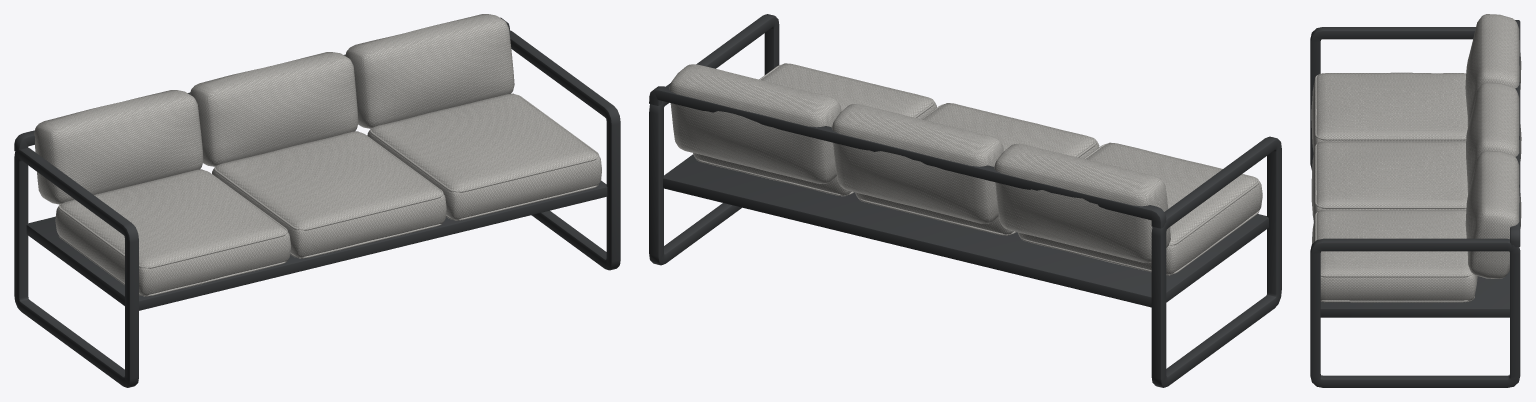
The model's file is sofa_aluminio_antracita.glb.
The picture shows the model from 3 angles, left to right: view 1: azimuth 30°, elevation 25°; view 2: azimuth 150°, elevation 25°; view 3: azimuth 270°, elevation 25°; orthographic projection. The views are drawn at different scales.
Parts seen in each view (by area): view 1: sofa_aluminio_antracita; view 2: sofa_aluminio_antracita; view 3: sofa_aluminio_antracita.
Boxes of the visible parts, x1,y1,x2,y2 form: sofa_aluminio_antracita: (14,14,620,387); sofa_aluminio_antracita: (649,14,1281,387); sofa_aluminio_antracita: (1310,14,1521,387).
Size of the model in its own units: 2 by 0.7367 by 0.825.
2 materials, 1 textured.
